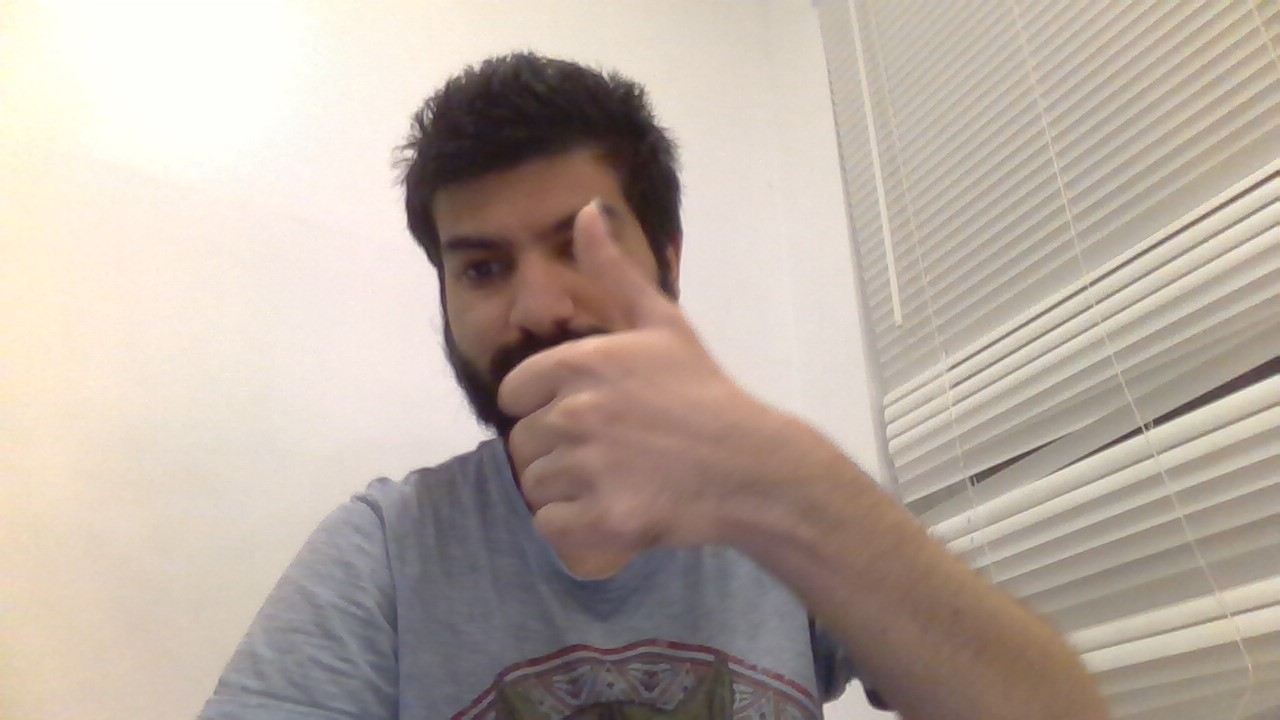up: (484, 190, 737, 596)
